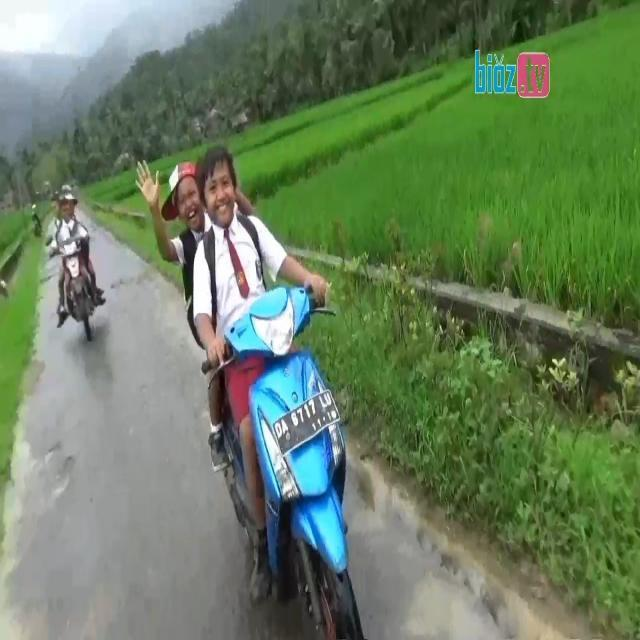Number Plate: (274, 391, 339, 454)
